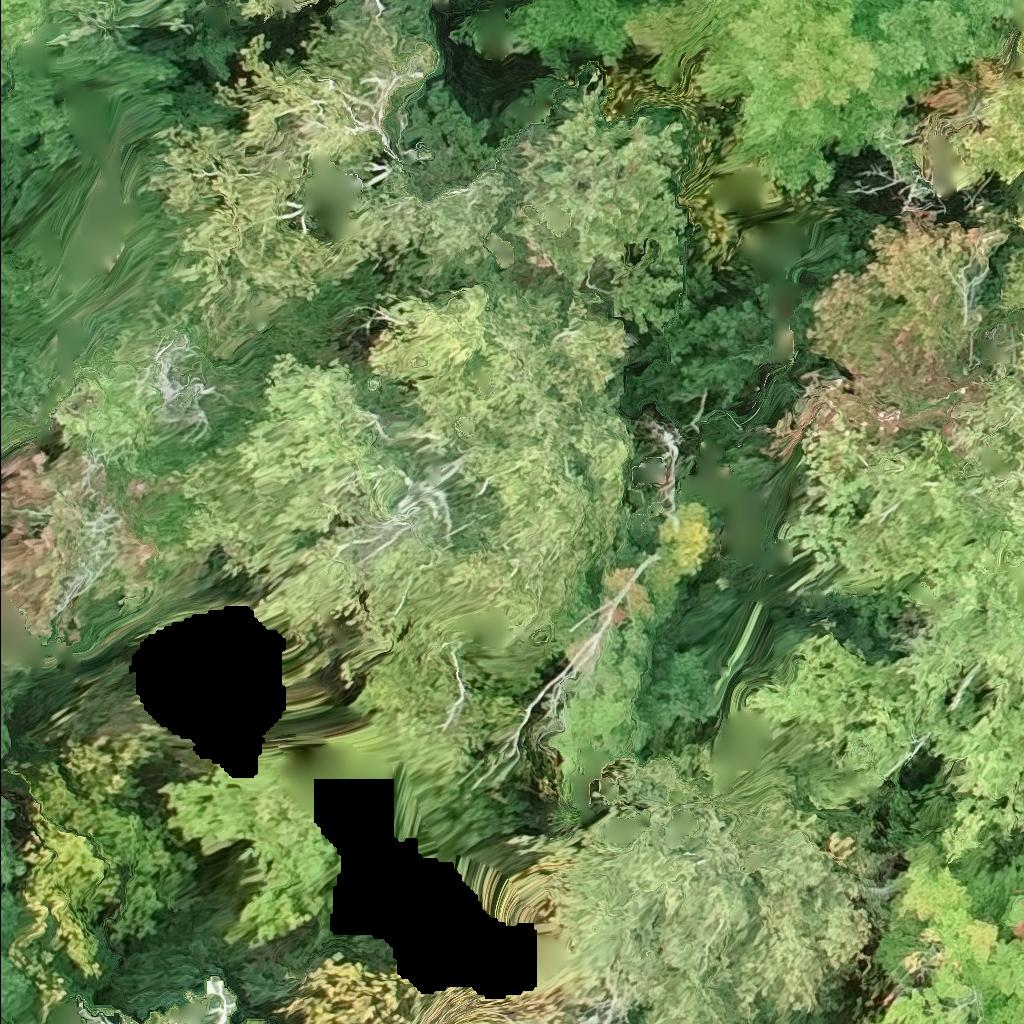crown: (948, 82, 1023, 184), (1020, 215, 1023, 226)
